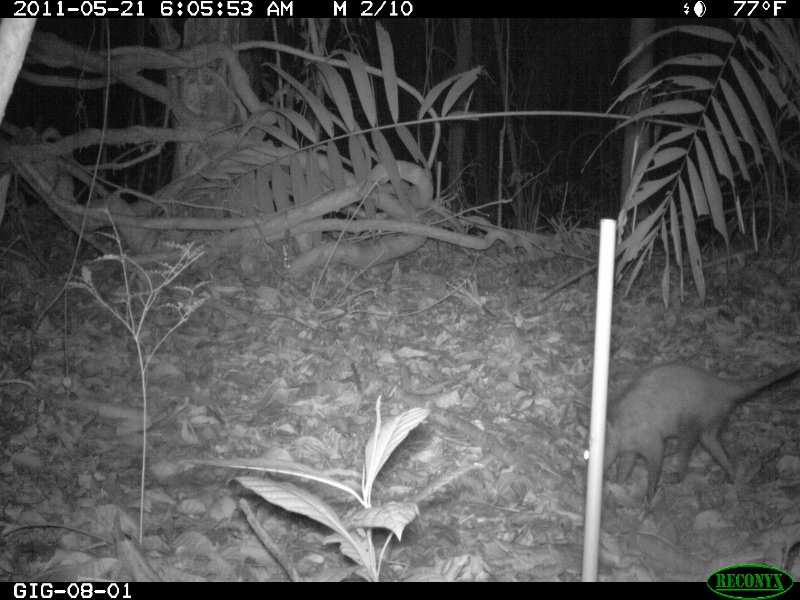opossum: (578, 359, 795, 501)
